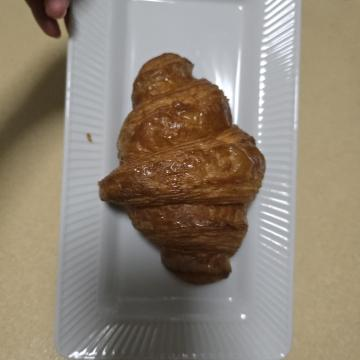croissant: (43, 89, 301, 275)
